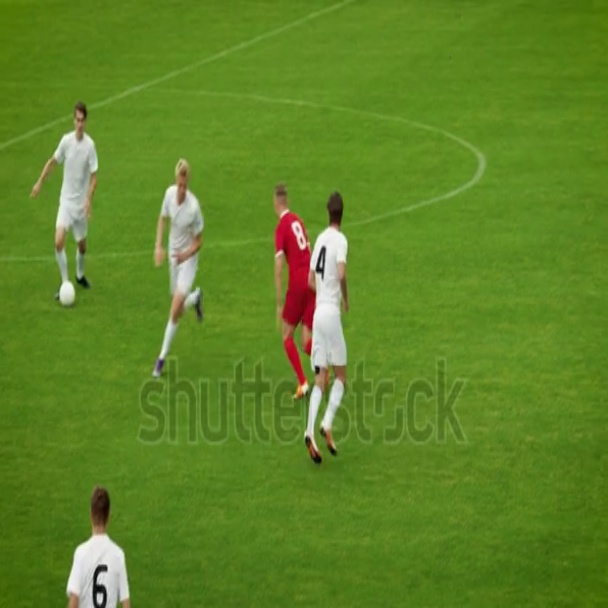ball: (60, 279, 78, 309)
